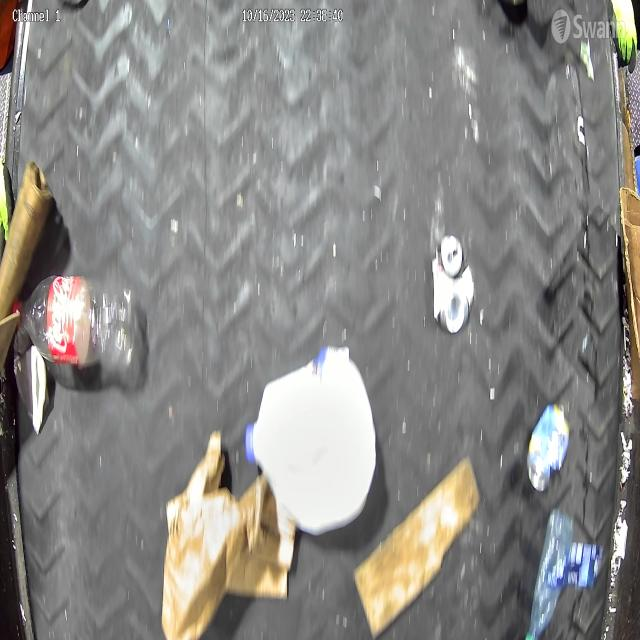can: (432, 233, 475, 337), (525, 401, 571, 497)
milk_jug: (246, 344, 377, 536)
plastic_bottle: (22, 276, 140, 372), (525, 509, 574, 640)
